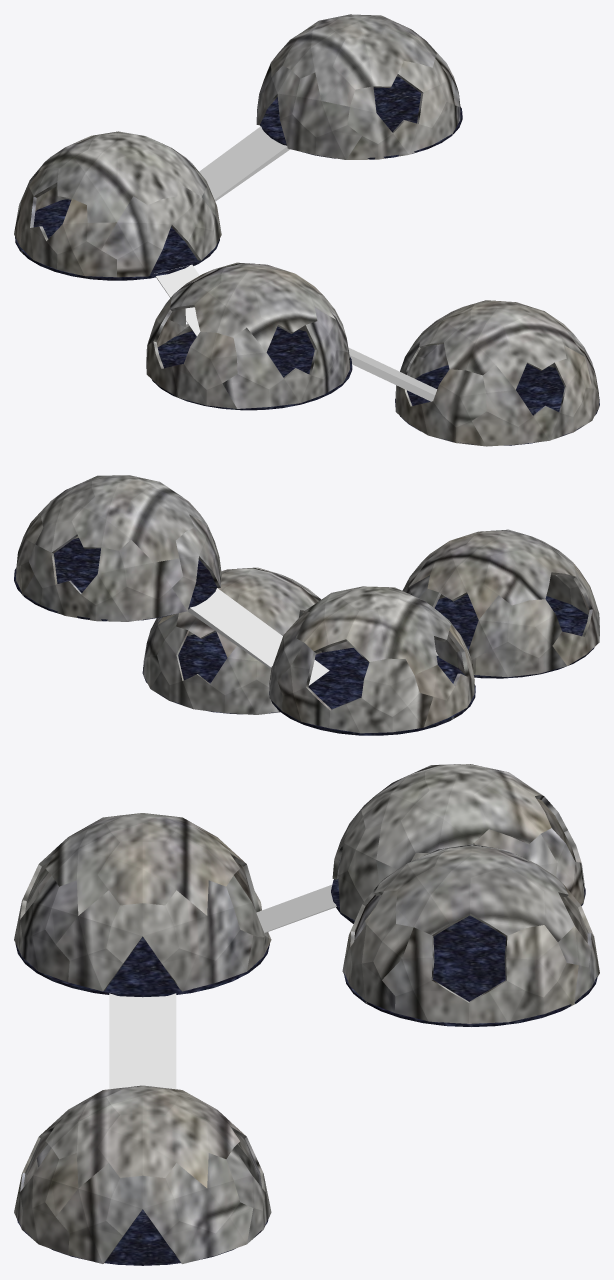
File: castle6.dae
3 views of the same model, one above another, from view 1: azimuth 30°, elevation 25°; view 2: azimuth 150°, elevation 25°; view 3: azimuth 270°, elevation 25° (orthographic). The views are drawn at different scales.
Parts seen in each view (by area): view 1: Cylinder; view 2: Cylinder; view 3: Cylinder.
Boxes of the visible parts, bbox=[...] form: Cylinder: bbox=[14, 14, 599, 446]; Cylinder: bbox=[14, 475, 599, 735]; Cylinder: bbox=[14, 764, 599, 1265].
Size of the model in its own units: 7.94 by 7.54 by 5.1.
1 material, 1 textured.
